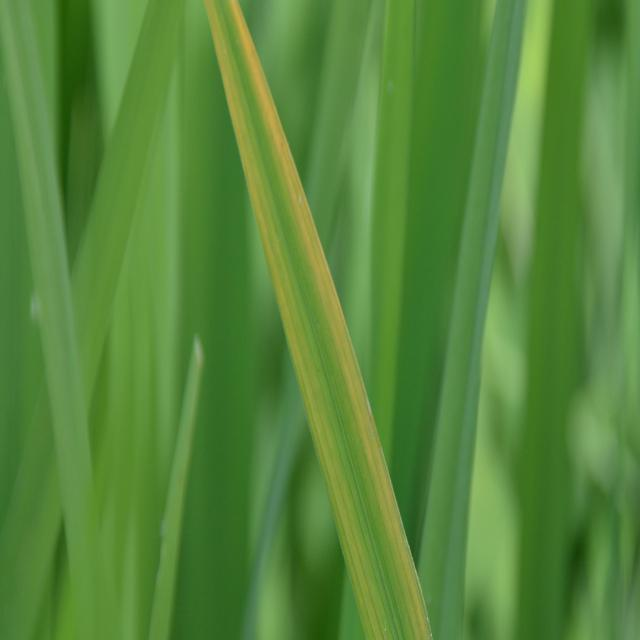Rice Tungro: (204, 9, 426, 616)
